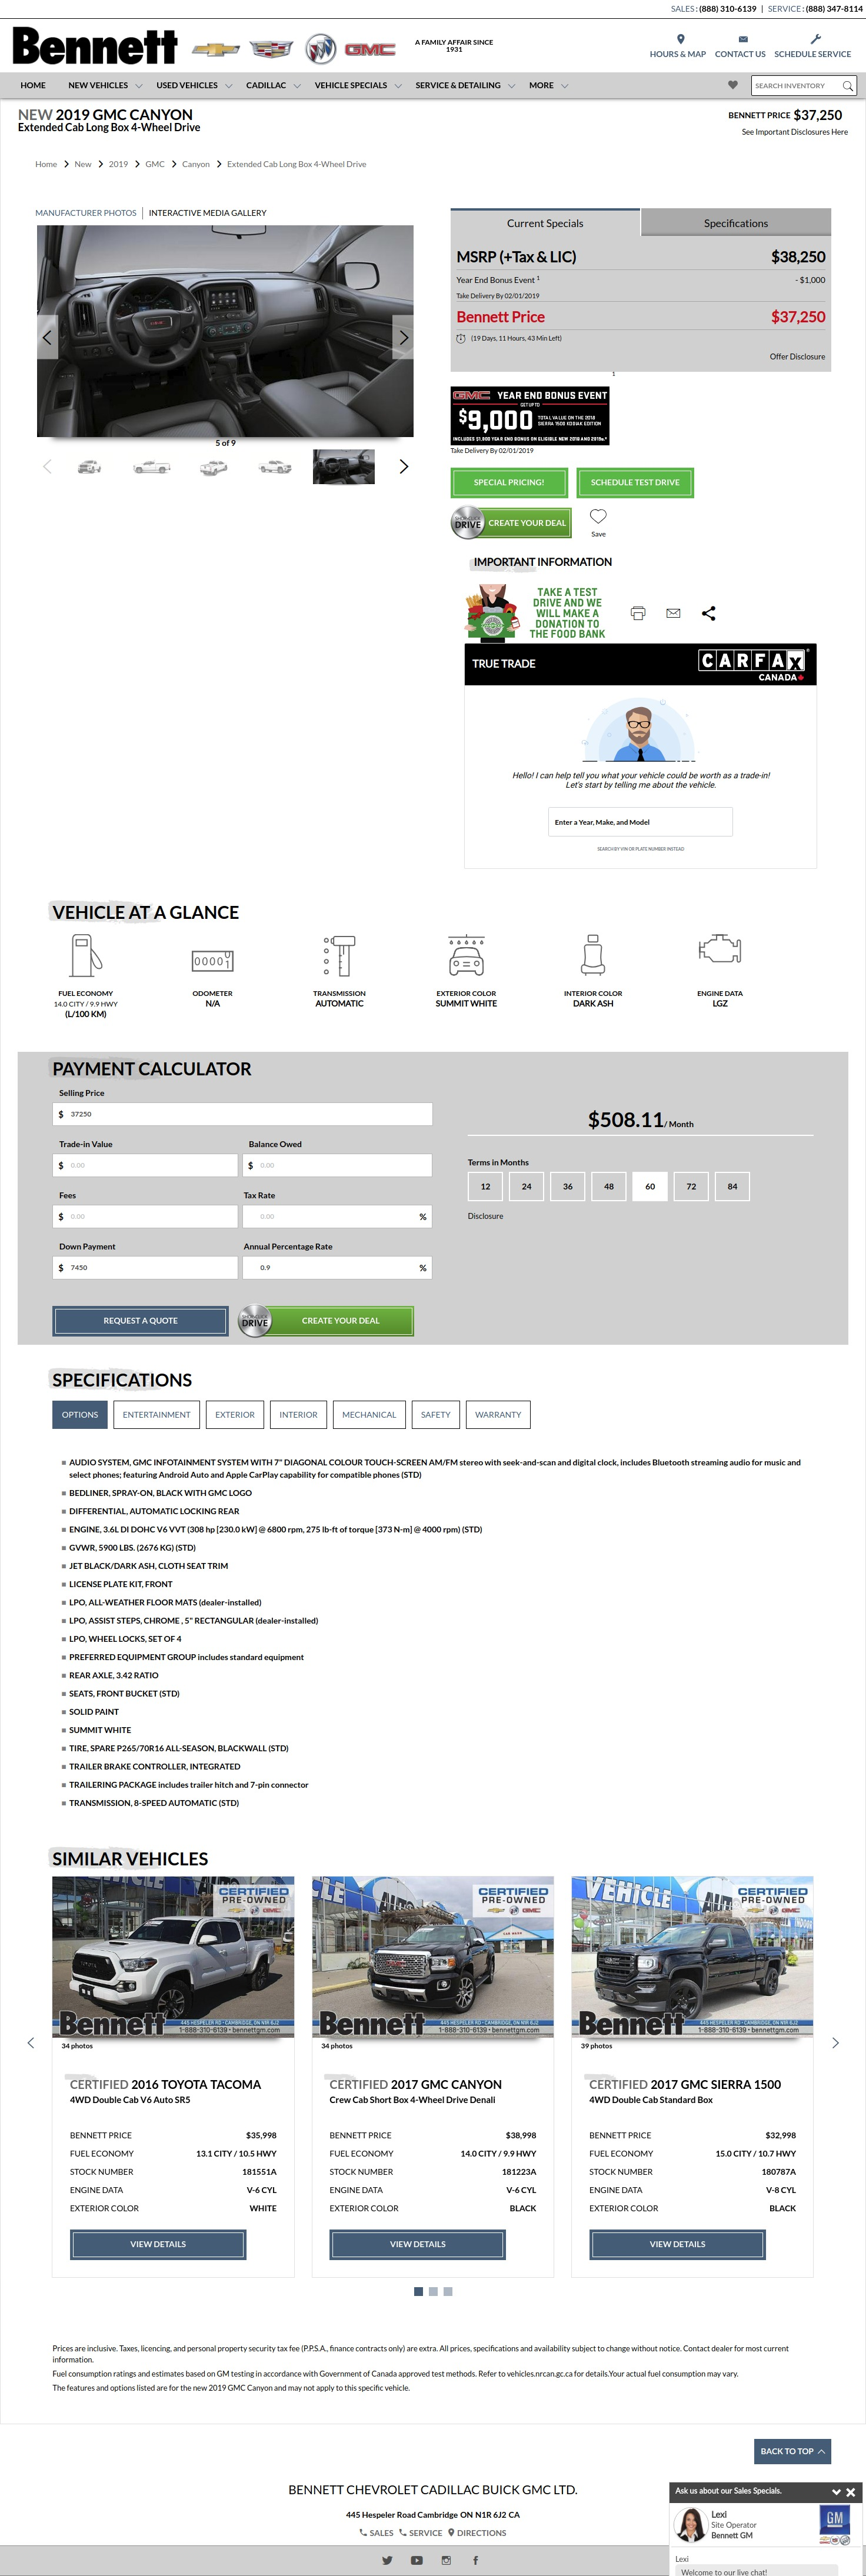car: (398, 458, 411, 476)
